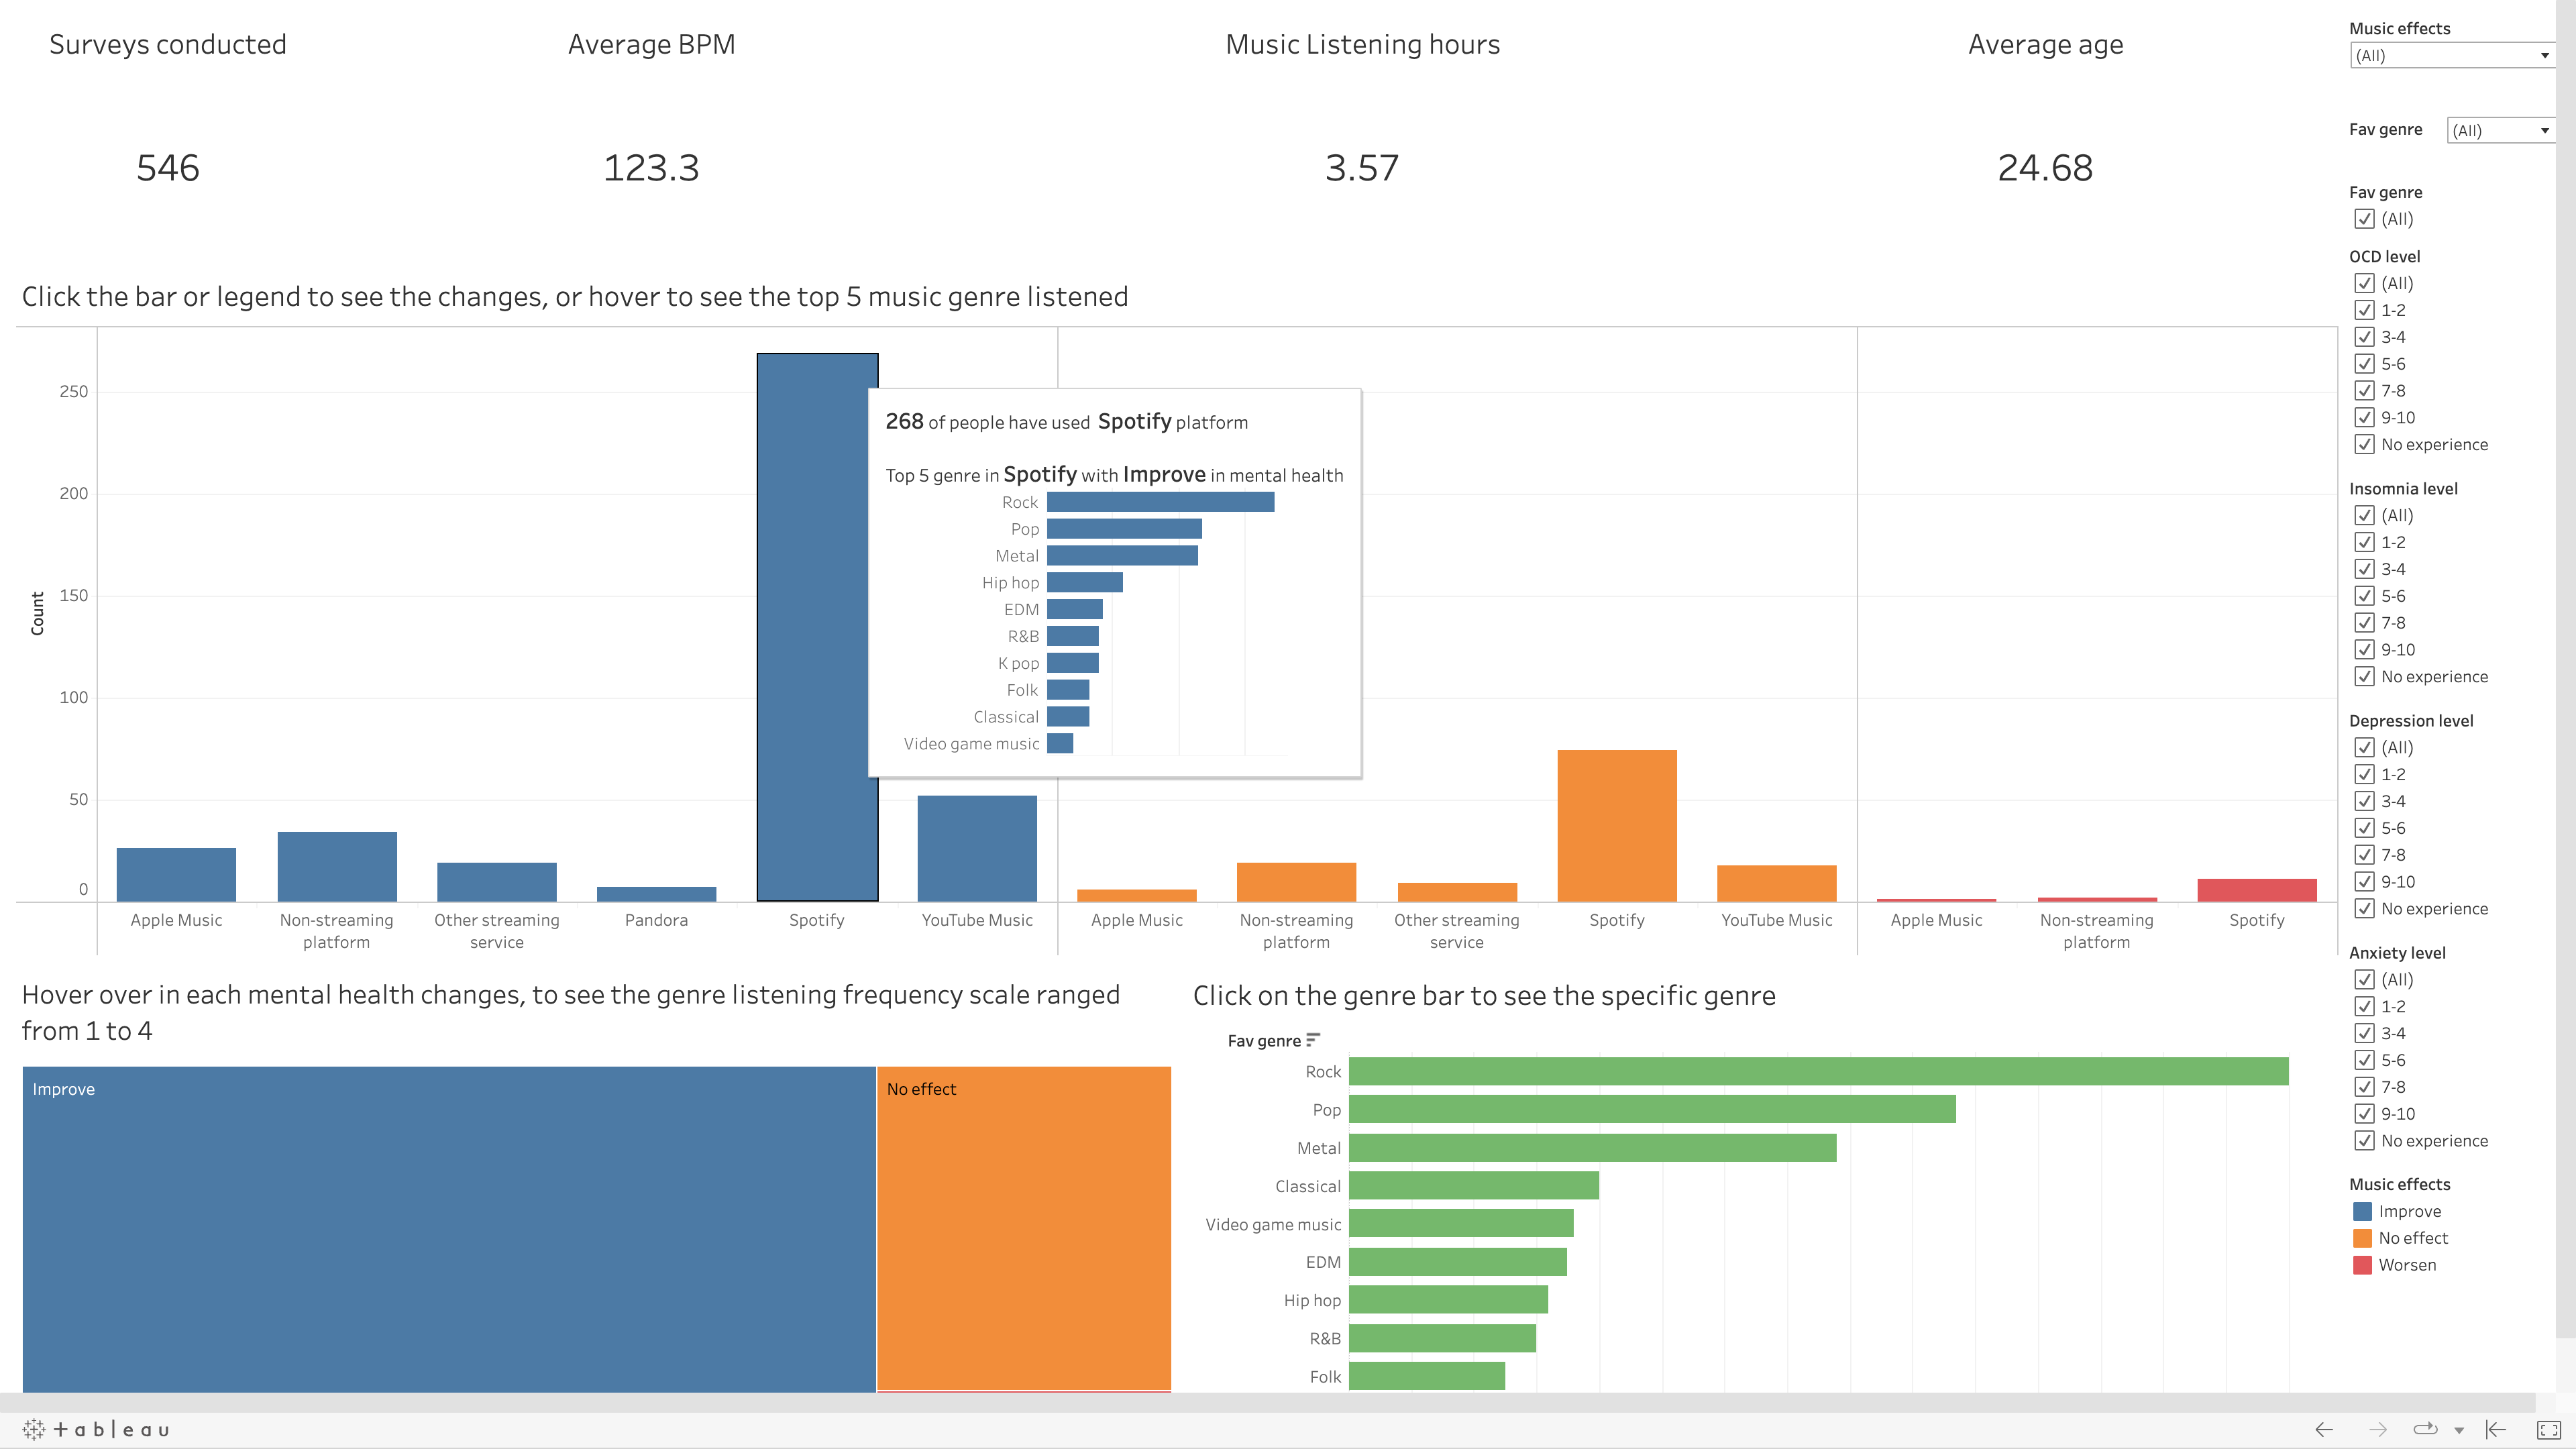

What the dashboard file says about the page in this screenshot:
{"tool":"tableau","page":{"name":"Music dashboard","canvas":[1000,1000],"units":"permille","ordinal":0},"visuals":[{"type":"worksheet","title":"Surveys conducted","mark":"Automatic","box":[3.5,6.3,102.3,140.3]},{"type":"worksheet","title":"Average BPM","mark":"Automatic","box":[105.8,6.3,121,140.3]},{"type":"worksheet","title":"Music Listening hours","mark":"Automatic","box":[226.8,6.3,177.6,140.3]},{"type":"worksheet","title":"Average age","mark":"Automatic","box":[404.4,6.3,510,140.3]},{"type":"filter","title":"Listening frequency in each effect section","param":"[federated.1oci5pb0qlg0t219j3f3d1bt4whb].[none:Music effects:nk]","box":[914.4,6.3,82.1,48]},{"type":"filter","title":"Listening platform","param":"[federated.1oci5pb0qlg0t219j3f3d1bt4whb].[none:Fav genre:nk]","box":[914.4,54.3,82.1,48]},{"type":"filter","title":"Listening frequency in each effect section","param":"[federated.1oci5pb0qlg0t219j3f3d1bt4whb].[none:Calculation_859624622874152964:nk","box":[914.4,102.3,82.1,155]},{"type":"worksheet","title":"Listening platform","mark":"Automatic","rows":["Primary streaming service"],"cols":["Music effects","Primary streaming service"],"box":[3.5,146.6,910.9,459.1]},{"type":"legend","title":"Listening platform","param":"[federated.1oci5pb0qlg0t219j3f3d1bt4whb].[none:Music effects:nk]","box":[857.6,203,50.9,107]},{"type":"filter","title":"Listening frequency in each effect section","param":"[federated.1oci5pb0qlg0t219j3f3d1bt4whb].[none:Calculation_859624622873759747:nk","box":[914.4,257.3,82.1,155]},{"type":"filter","title":"Listening frequency in each effect section","param":"[federated.1oci5pb0qlg0t219j3f3d1bt4whb].[none:Calculation_859624622873341953:nk","box":[914.4,412.2,82.1,155]},{"type":"filter","title":"Listening frequency in each effect section","param":"[federated.1oci5pb0qlg0t219j3f3d1bt4whb].[none:Calculation_859624622870994944:nk","box":[914.4,567.2,82.1,155]},{"type":"worksheet","title":"Listening frequency in each effect section","mark":"Automatic","box":[3.5,605.7,910.9,388]}]}

Visuals, with their boxes on the dashboard's canvas, which has no fixed pixel size, in thousandths of its width and height (x1, y1, x2, y2). These are canvas units, not pixel positions in the 2576x1449 screenshot, which may show the page scaled, cropped or inside an application window:
"Surveys conducted" worksheet: [4, 6, 106, 147]
"Average BPM" worksheet: [106, 6, 227, 147]
"Music Listening hours" worksheet: [227, 6, 404, 147]
"Average age" worksheet: [404, 6, 914, 147]
"Listening frequency in each effect section" filter: [914, 6, 996, 54]
"Listening platform" filter: [914, 54, 996, 102]
"Listening frequency in each effect section" filter: [914, 102, 996, 257]
"Listening platform" worksheet: [4, 147, 914, 606]
"Listening platform" legend: [858, 203, 908, 310]
"Listening frequency in each effect section" filter: [914, 257, 996, 412]
"Listening frequency in each effect section" filter: [914, 412, 996, 567]
"Listening frequency in each effect section" filter: [914, 567, 996, 722]
"Listening frequency in each effect section" worksheet: [4, 606, 914, 994]
